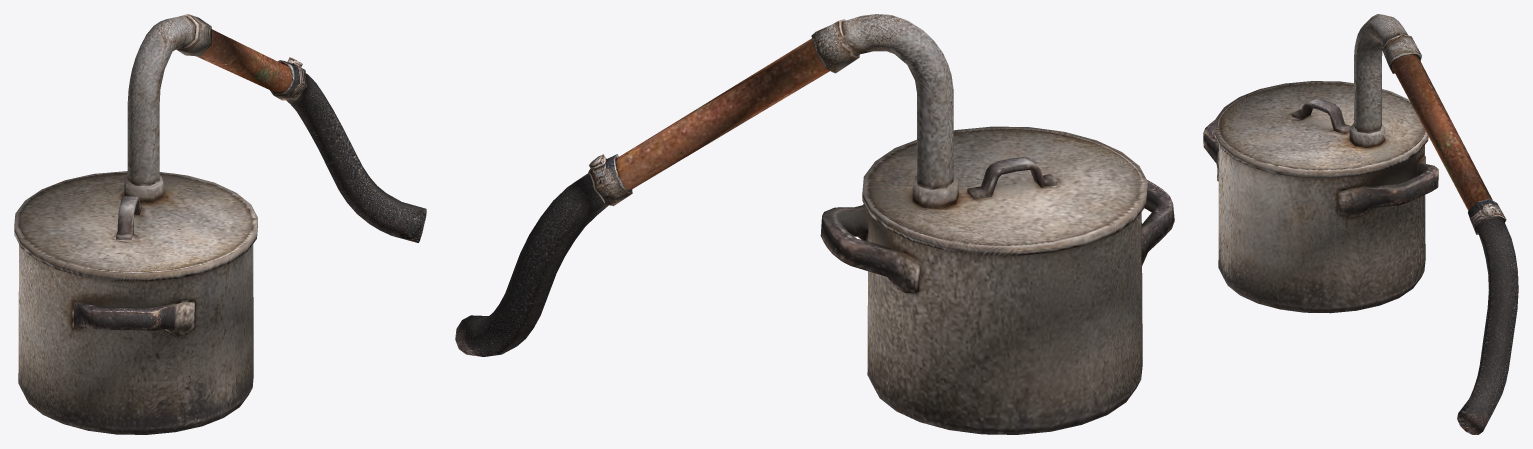
The model's file is tripo_convert_606baa46-ed11-4803-9192-8f9db6a4cd47.fbx.
The picture shows the model from 3 angles, left to right: view 1: azimuth 30°, elevation 25°; view 2: azimuth 150°, elevation 25°; view 3: azimuth 270°, elevation 25°; orthographic projection. The views are drawn at different scales.
Visible parts, largest first — view 1: tripo_node_606baa46; view 2: tripo_node_606baa46; view 3: tripo_node_606baa46.
Boxes of the visible parts, x1,y1,x2,y2 form: tripo_node_606baa46: [14, 14, 426, 434]; tripo_node_606baa46: [455, 14, 1174, 434]; tripo_node_606baa46: [1203, 14, 1518, 434].
Size of the model in its own units: 0.9995 by 0.6489 by 0.6401.
